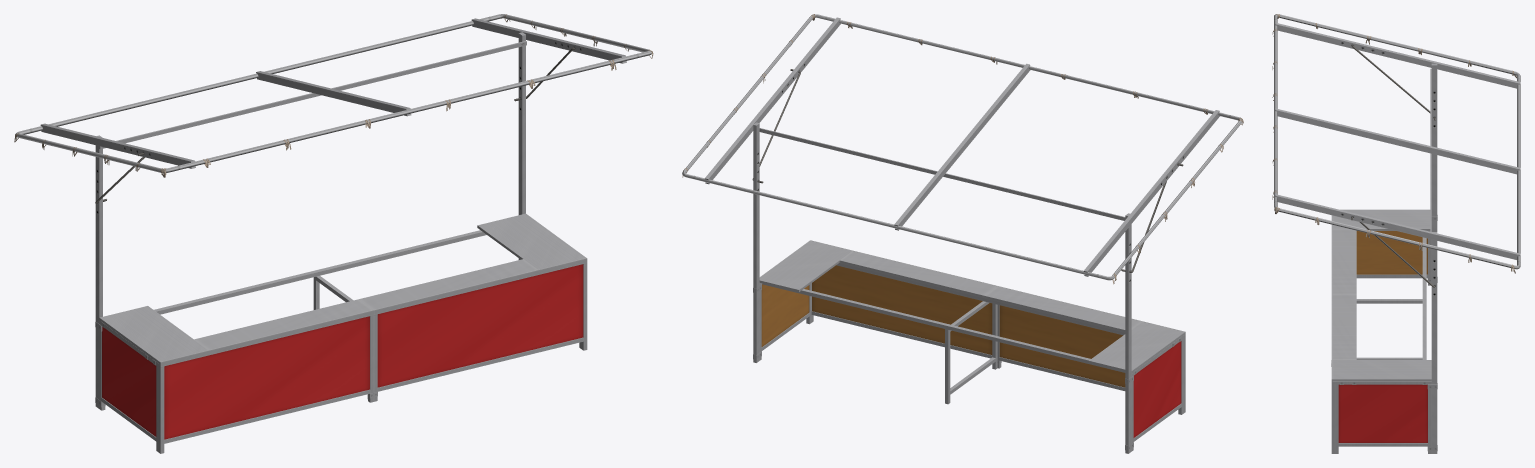
Rendered from jsf_2P_s04_c06_t03.fbx.
3 renders of one model, left to right at view 1: azimuth 30°, elevation 25°; view 2: azimuth 150°, elevation 25°; view 3: azimuth 270°, elevation 25°, orthographic. The views are drawn at different scales.
Parts seen in each view (by area): view 1: Base_s04_c06, Pillar2_s04, Table_2P_s04_t03, Rope_2P_s04; view 2: Base_s04_c06, Pillar2_s04, Table_2P_s04_t03, Support; view 3: Pillar2_s04, Base_s04_c06, Table_2P_s04_t03, Support, Rope_2P_s04.
Boxes of the visible parts, x1=… form: Base_s04_c06: x1=95, y1=258, x2=587, y2=453; Pillar2_s04: x1=15, y1=14, x2=651, y2=408; Table_2P_s04_t03: x1=99, y1=213, x2=586, y2=365; Rope_2P_s04: x1=14, y1=14, x2=653, y2=177; Base_s04_c06: x1=753, y1=240, x2=1185, y2=451; Pillar2_s04: x1=682, y1=14, x2=1242, y2=453; Table_2P_s04_t03: x1=759, y1=240, x2=1184, y2=374; Support: x1=945, y1=301, x2=997, y2=404; Pillar2_s04: x1=1274, y1=14, x2=1520, y2=453; Base_s04_c06: x1=1331, y1=215, x2=1437, y2=453; Table_2P_s04_t03: x1=1332, y1=209, x2=1431, y2=384; Support: x1=1356, y1=299, x2=1422, y2=359; Rope_2P_s04: x1=1272, y1=14, x2=1516, y2=273.
Bounding box in the file's own units: 395 × 244 × 211.
